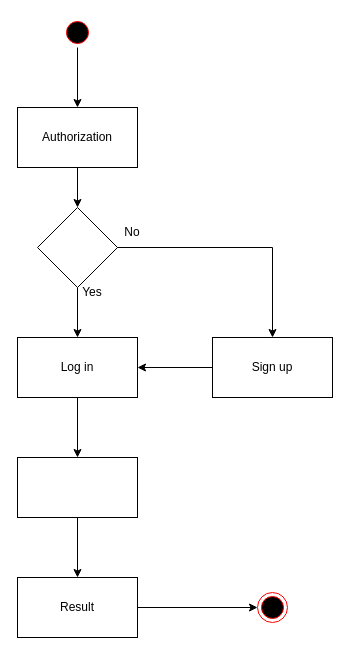
The diagram is 350 pixels wide and 655 high, and some of its shapes have lost their labels. The shapes that lost their labels are listed below. From the top down, each one's centre as x and y in pixels, then its label:
the point at 77,247: Is user registrated?
the point at 77,487: Choose option
